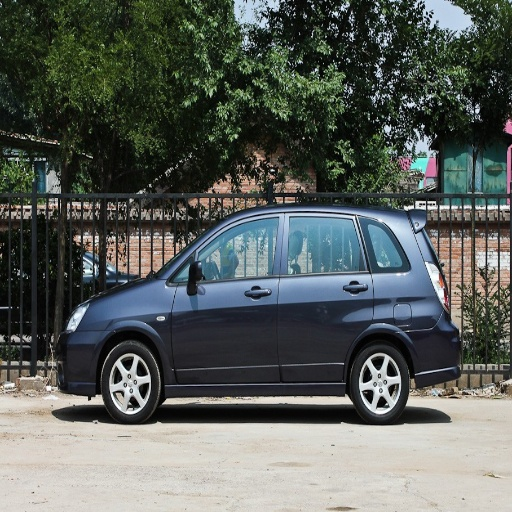back_left_door: (278, 214, 373, 382)
front_left_door: (175, 214, 283, 383)
